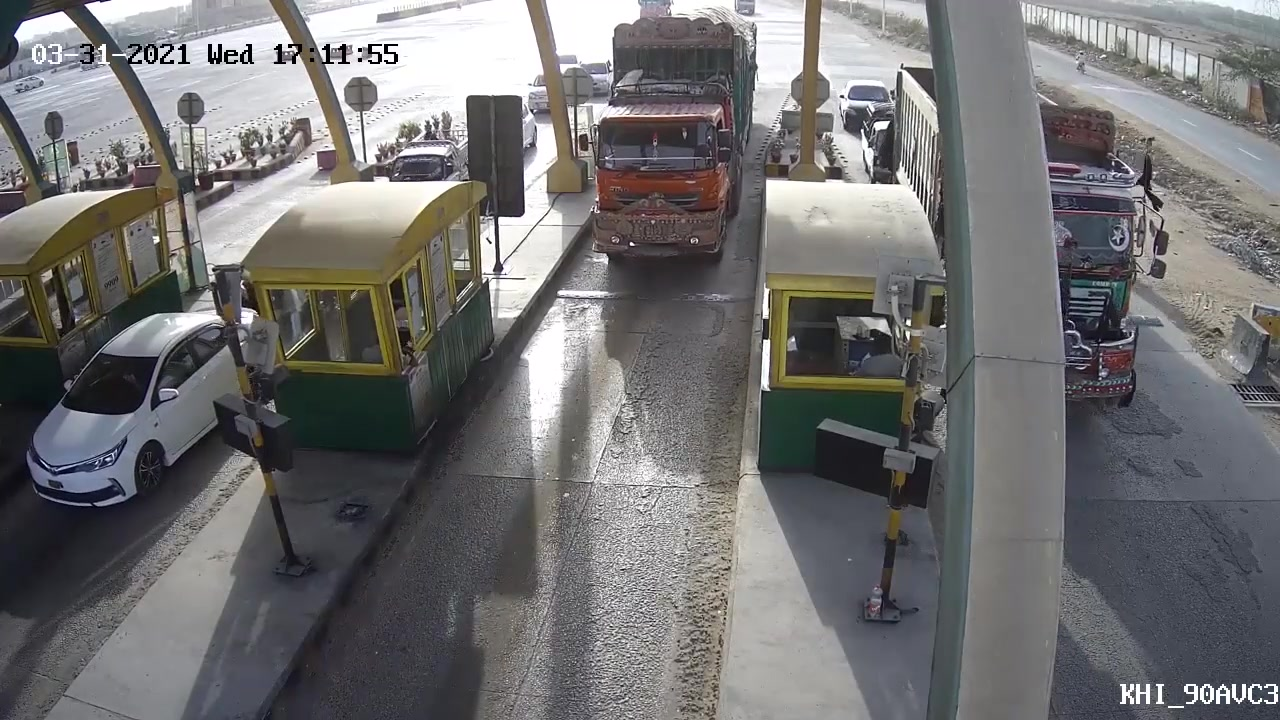F6: (574, 1, 763, 294)
